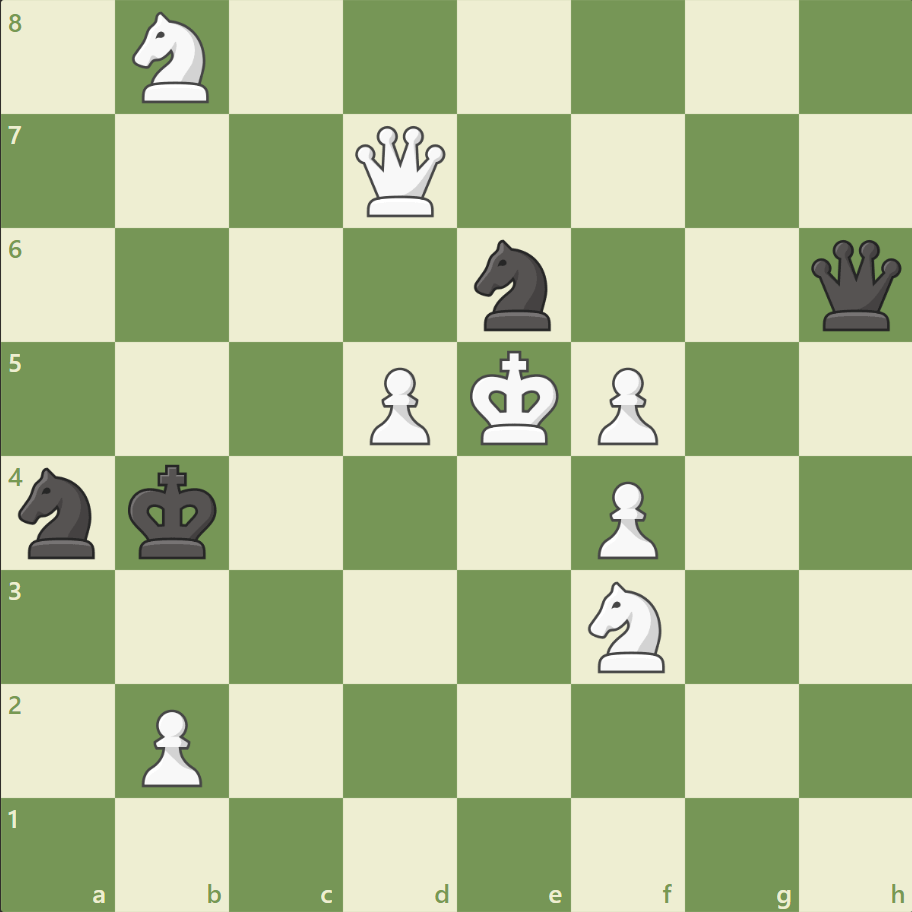K: (465, 344, 565, 452)
N: (124, 7, 222, 110), (579, 575, 676, 677)
P: (133, 700, 208, 791), (361, 359, 435, 450), (588, 359, 662, 450), (588, 473, 662, 564)
Q: (351, 122, 450, 222)
k: (124, 458, 224, 566)
n: (465, 234, 562, 337), (11, 461, 108, 564)
q: (805, 236, 904, 335)
